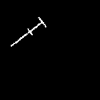double_crochet: (11, 18, 45, 45)
